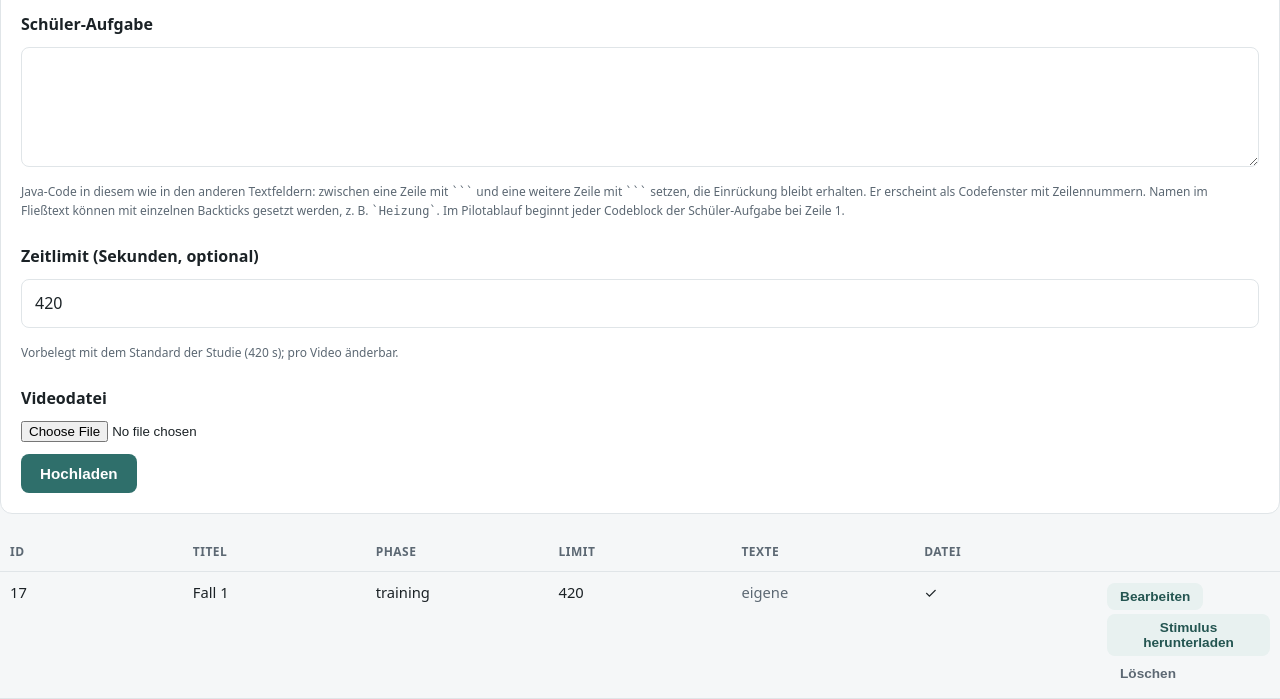
Test: cancel discards changes and reopening restores stored values
(page scrolled)
Click the button with aria-label "Video „Fall 1“ bearbeiten" at [1155, 596], box [1107,583,1203,610]
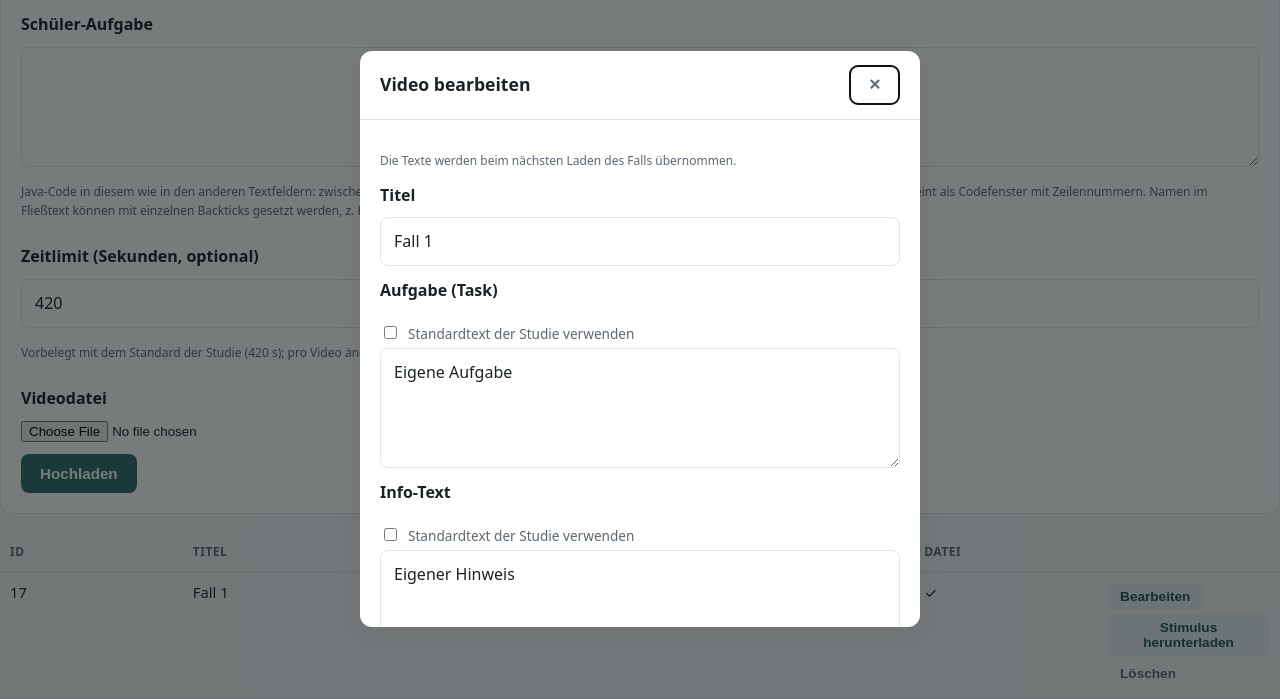
Replace the text in the field labelled "Titel" with "Nicht speichern" at [640, 242], box [380,217,900,266]
(page scrolled)
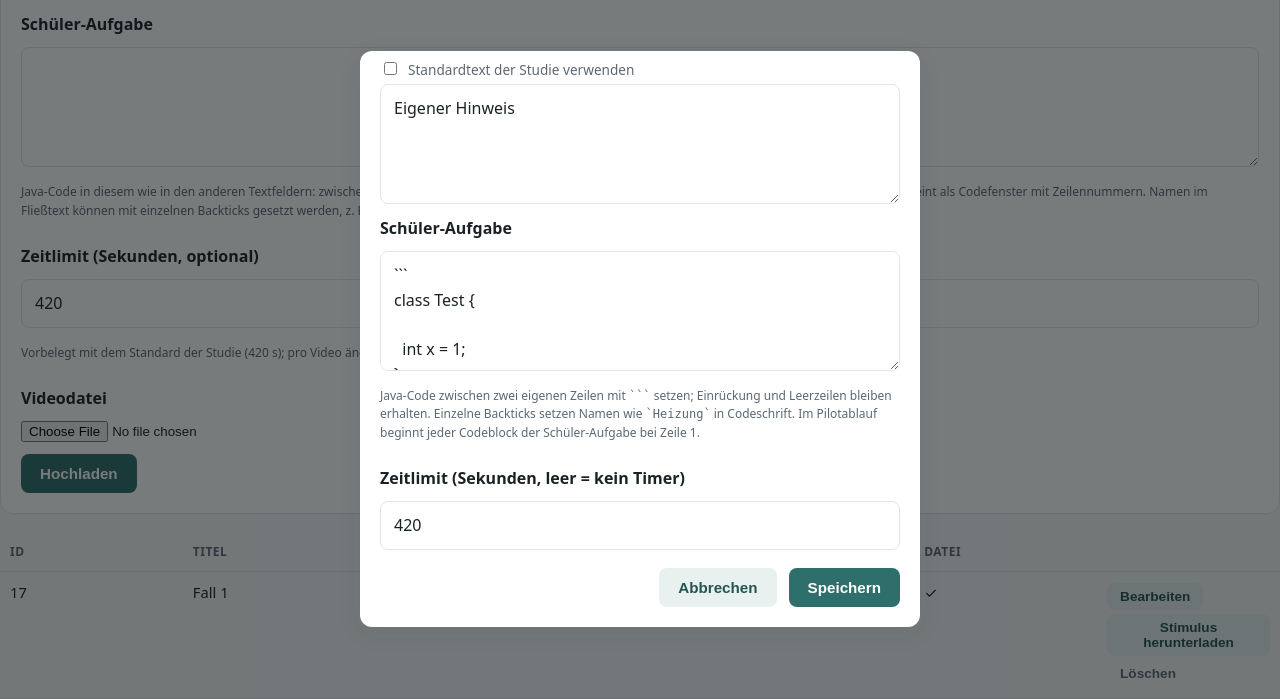
Click the button "Abbrechen" at [718, 588], box [659,568,776,607]
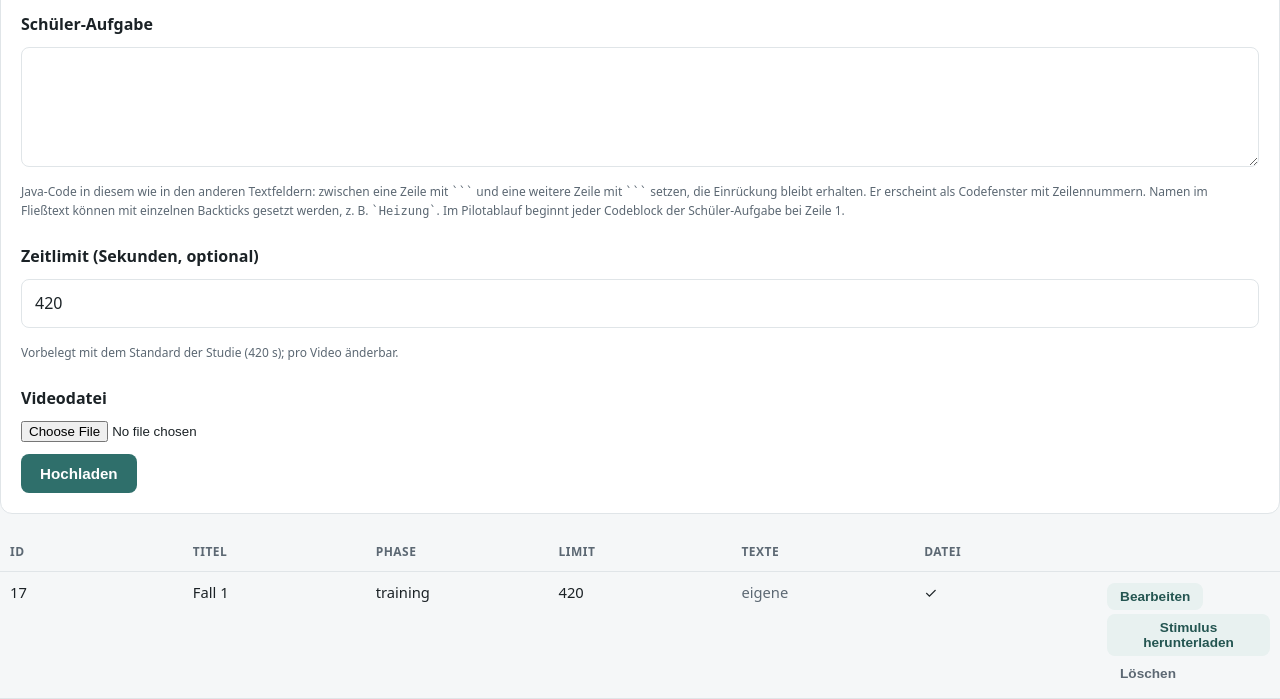
Click the button with aria-label "Video „Fall 1“ bearbeiten" at [1155, 596], box [1107,583,1203,610]
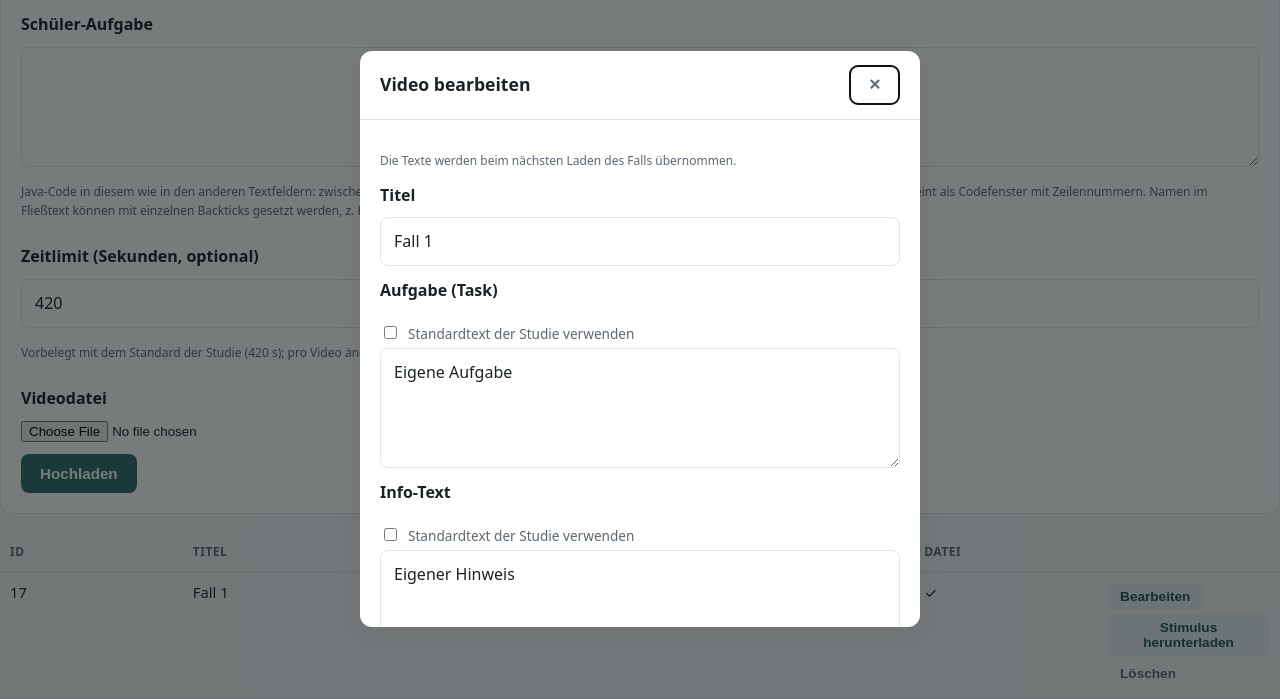
Expected: the field labelled "Titel" holds "Fall 1", [380,217,900,266]
